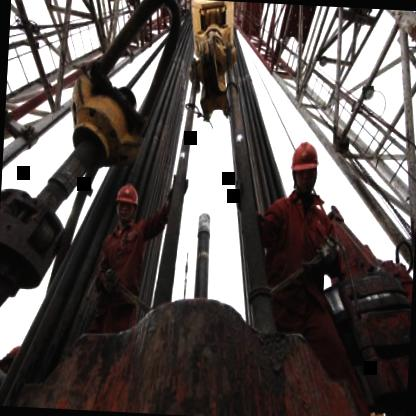helmet: (287, 138, 321, 198), (114, 182, 140, 224)
